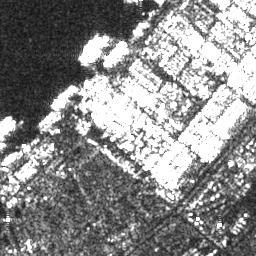ship: (75, 32, 101, 63), (46, 83, 76, 108), (35, 107, 55, 128), (133, 19, 149, 38)
